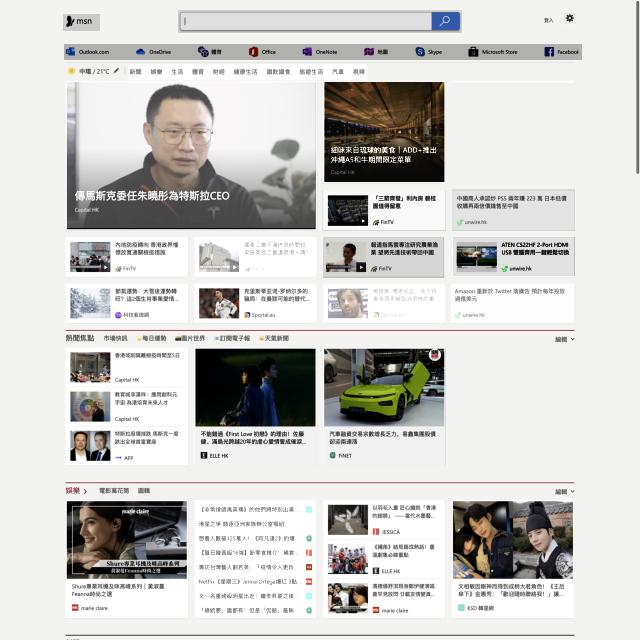CheckedTextView: (178, 10, 462, 33)
QR code: (195, 501, 315, 616)
Spinner: (324, 348, 446, 465), (195, 348, 316, 465), (452, 189, 575, 231), (324, 237, 446, 278), (322, 191, 446, 231), (196, 237, 316, 277), (453, 237, 575, 276), (324, 284, 445, 323), (452, 285, 574, 323)
bag: (0, 0, 637, 80)
carousel: (564, 14, 576, 26)
copy: (66, 82, 315, 228), (324, 82, 444, 182)
date picker: (63, 14, 100, 31)
decoration: (64, 44, 582, 60), (128, 64, 367, 80)
